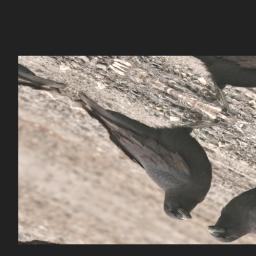Crow: (33, 62, 253, 227)
